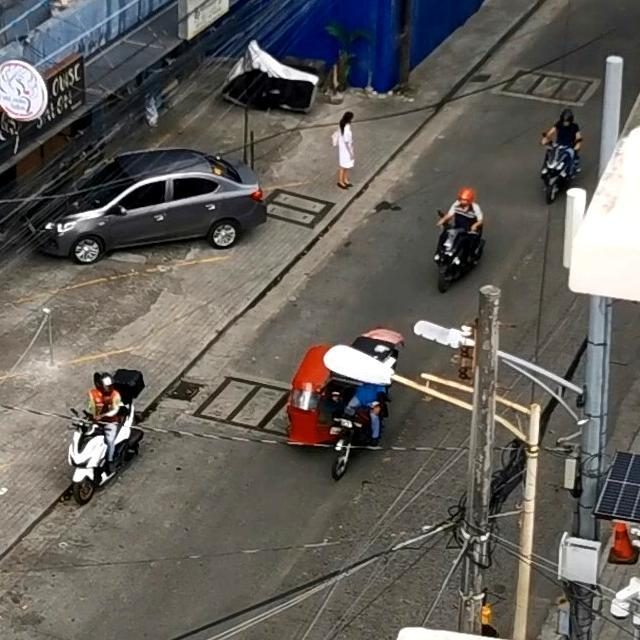Motorcycle: (64, 392, 144, 505), (434, 186, 483, 282), (540, 108, 582, 180)
